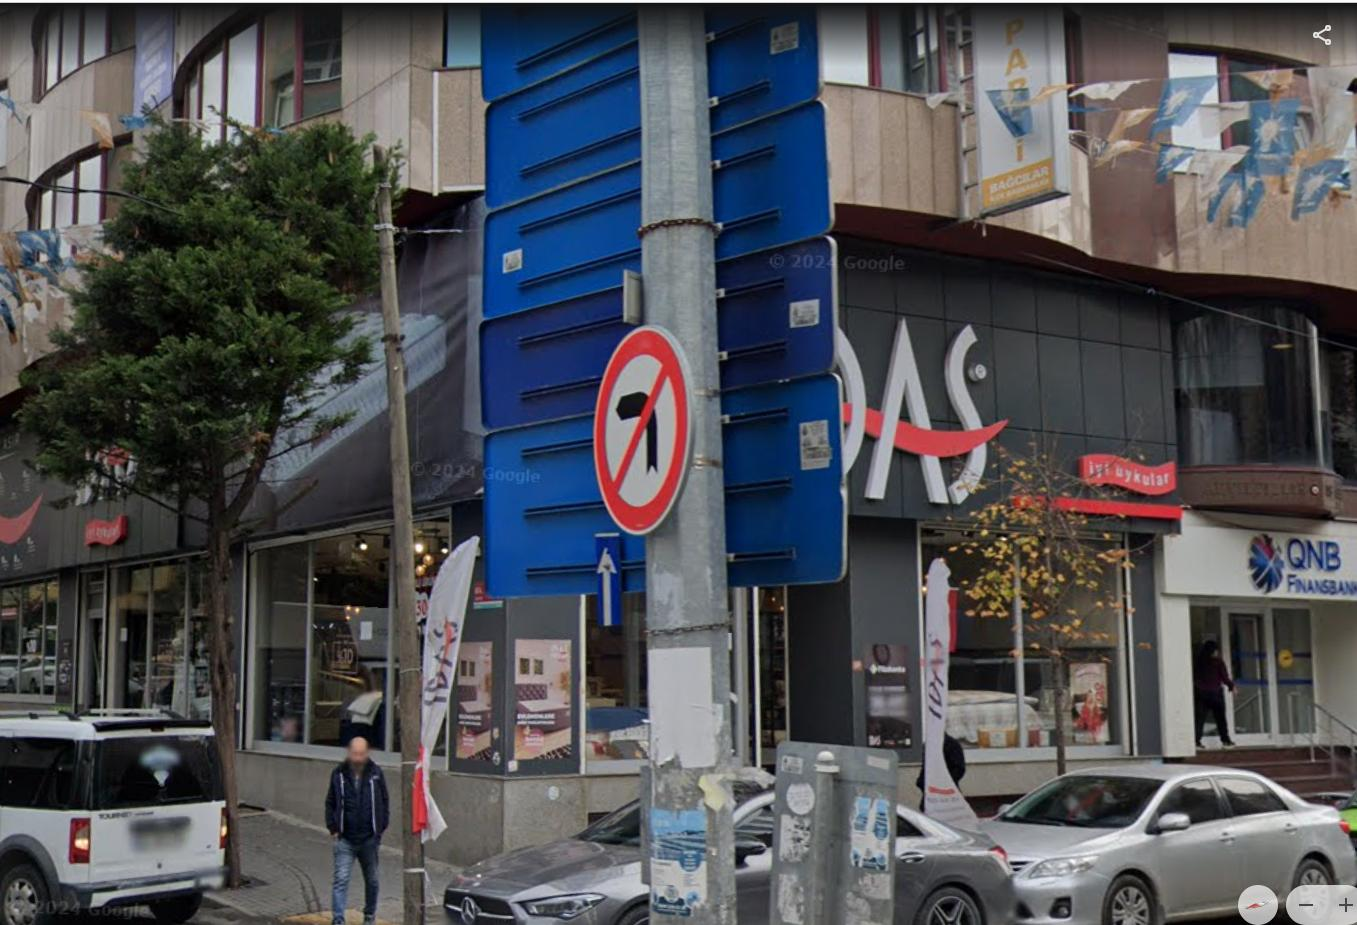leftturnsareforbidden: (594, 329, 688, 509)
